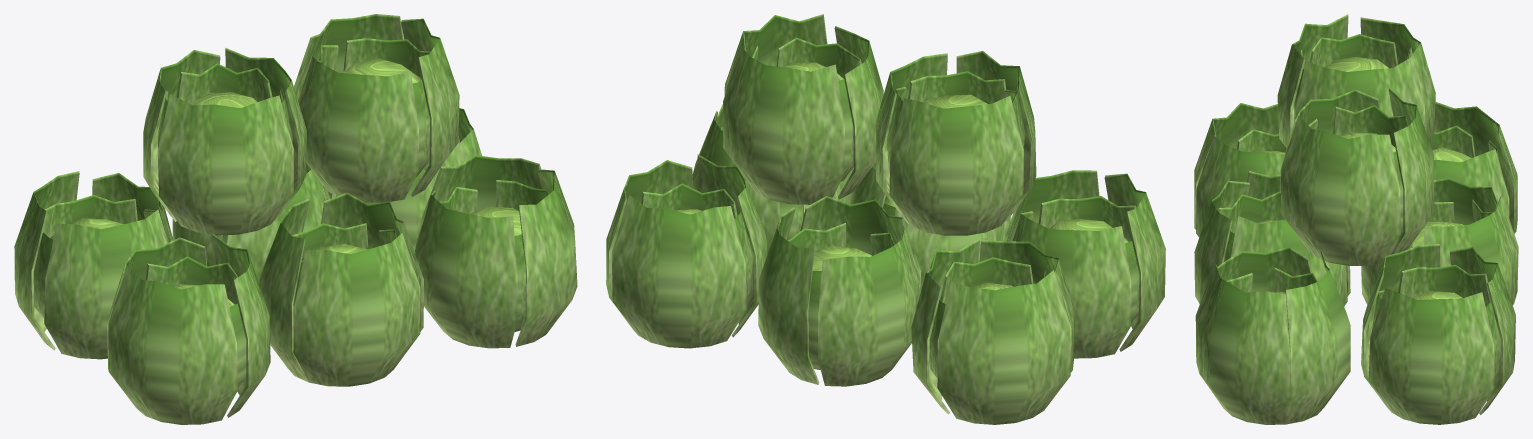
The model's file is sk_produce_pile_lettuce.fbx.
3 views of the same model, side by side, from view 1: azimuth 30°, elevation 25°; view 2: azimuth 150°, elevation 25°; view 3: azimuth 270°, elevation 25° (orthographic). The views are drawn at different scales.
Visible parts, largest first — view 1: sk_produce_pile_lettuce; view 2: sk_produce_pile_lettuce; view 3: sk_produce_pile_lettuce.
Part boxes in pixels (left/top/right/bottom): sk_produce_pile_lettuce: left=14, top=14, right=577, bottom=424; sk_produce_pile_lettuce: left=606, top=14, right=1165, bottom=424; sk_produce_pile_lettuce: left=1194, top=14, right=1518, bottom=424.
Bounding box in the file's own units: 0.4356 × 0.2522 × 0.2858.
Materials: 1 (1 with a texture image).
